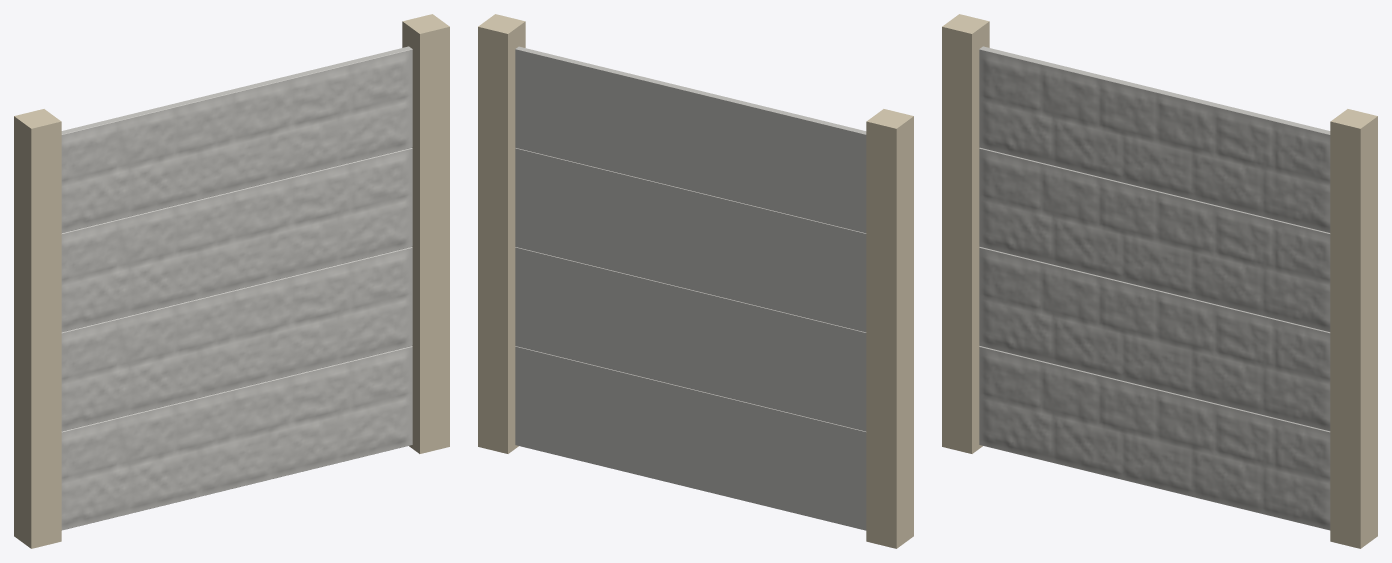
The model's file is terilgan.glb.
3 views of the same model, side by side, from view 1: azimuth 30°, elevation 25°; view 2: azimuth 150°, elevation 25°; view 3: azimuth 330°, elevation 25° (orthographic).
Visible parts, largest first — view 1: t3, t0, t2, t1, Ustun, Ustun.001; view 2: t3, t1, t2, t0, Ustun, Ustun.001; view 3: t3, t0, t2, t1, Ustun.001, Ustun.
Part boxes in pixels (x1,y1,x2,y2): t3: (61, 46, 412, 232); t0: (61, 346, 412, 530); t2: (61, 148, 412, 331); t1: (61, 247, 412, 431); Ustun: (14, 109, 61, 548); Ustun.001: (402, 14, 449, 453); t3: (515, 46, 866, 233); t1: (515, 247, 866, 431); t2: (515, 148, 866, 332); t0: (515, 346, 866, 530); Ustun: (866, 109, 913, 548); Ustun.001: (478, 14, 525, 453); t3: (979, 46, 1330, 232); t0: (979, 346, 1330, 530); t2: (979, 148, 1330, 331); t1: (979, 247, 1330, 431); Ustun.001: (1330, 109, 1377, 548); Ustun: (942, 14, 989, 453).
Size of the model in its own units: 2.22 by 2.13 by 0.16.
